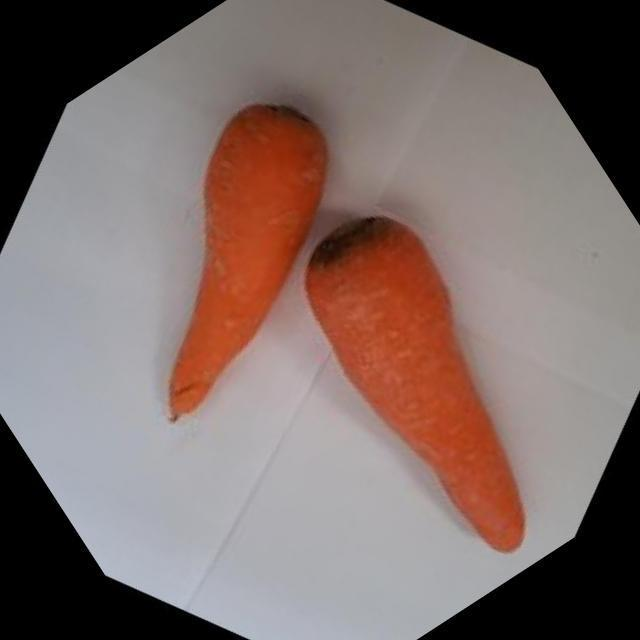Carrot: (306, 218, 525, 551), (170, 104, 328, 421)
